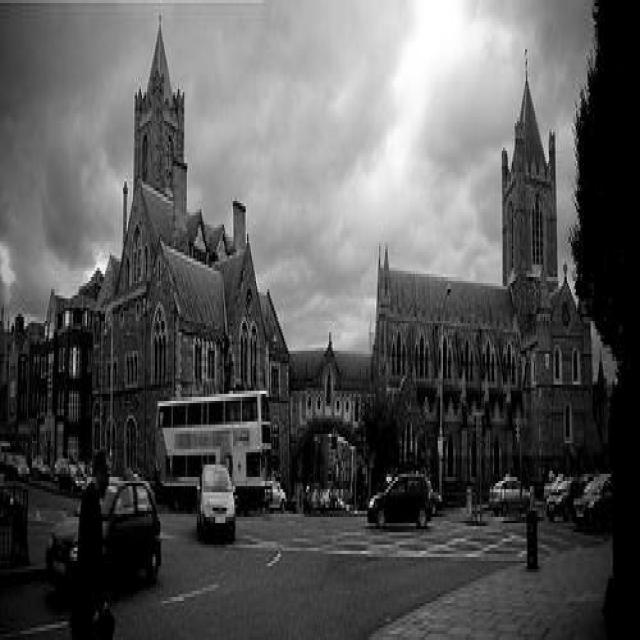vehicle: (157, 388, 273, 508), (45, 477, 163, 588), (369, 471, 435, 533), (196, 465, 236, 544), (574, 474, 615, 532), (488, 474, 530, 518), (545, 477, 583, 523), (268, 477, 288, 515), (320, 486, 332, 518), (32, 456, 50, 475)
